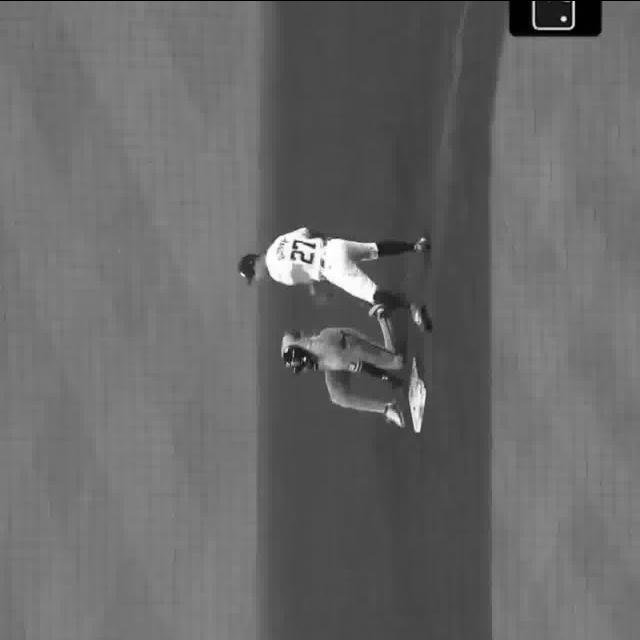base: (407, 357, 428, 433)
shoe: (385, 398, 409, 430), (413, 306, 433, 336), (369, 303, 394, 319)
